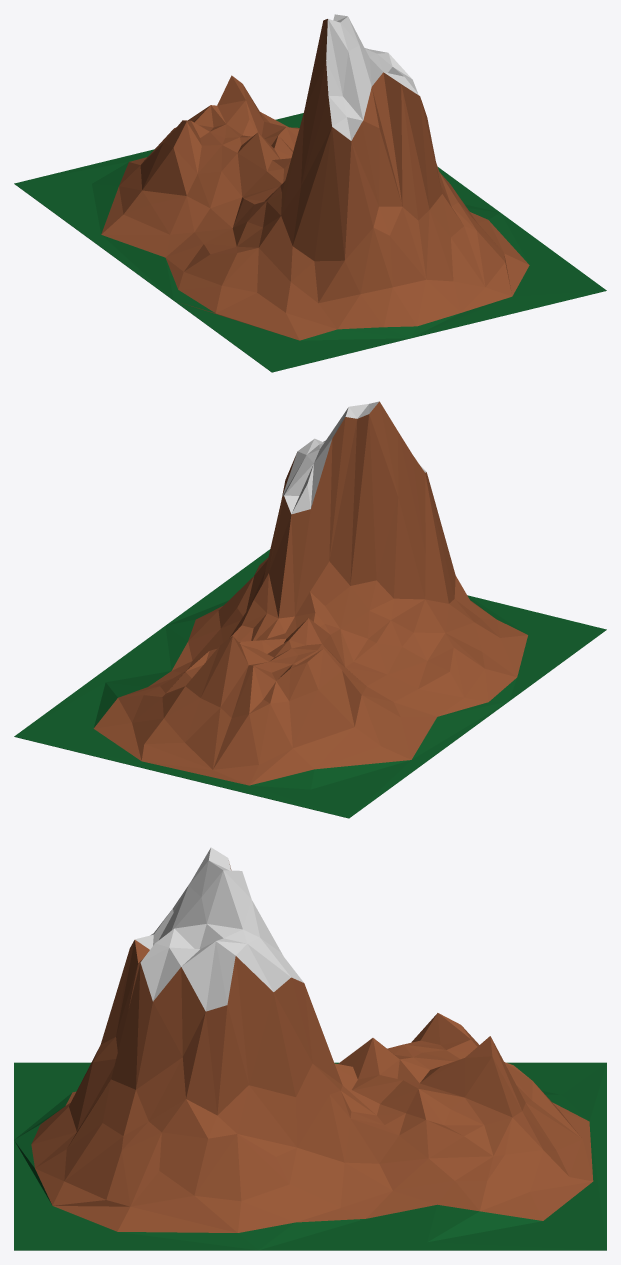
Rendered from Mountain01.fbx.
3 views of the same model, one above another, from view 1: azimuth 30°, elevation 25°; view 2: azimuth 150°, elevation 25°; view 3: azimuth 270°, elevation 25° (orthographic). The views are drawn at different scales.
Visible parts, largest first — view 1: Mountain01; view 2: Mountain01; view 3: Mountain01.
Part boxes in pixels (x1,y1,x2,y2): Mountain01: [14, 14, 606, 372]; Mountain01: [14, 401, 606, 818]; Mountain01: [14, 847, 606, 1250].
Bounding box in the file's own units: 15000 × 10978 × 20000.
